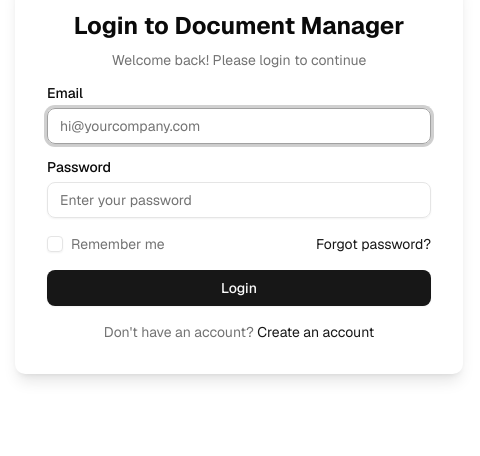
Test: LoginForm › validates email field on form submission
# Submit the form without filling the email field
What coordinates should you click on to do the following:
click the button "Login"
I would click on:
 (239, 288)
Its box is [47,270,431,306].
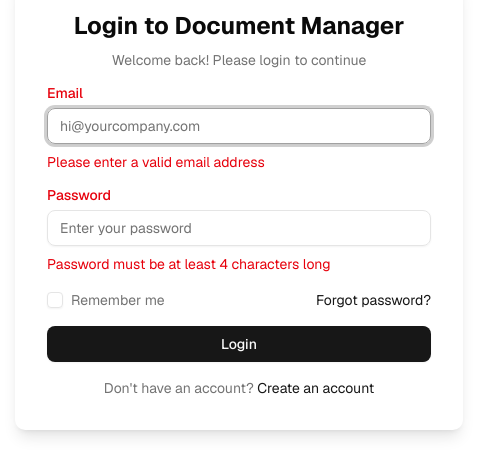
Result: the text "Please enter a valid email address" is shown at [47,153,265,171]
